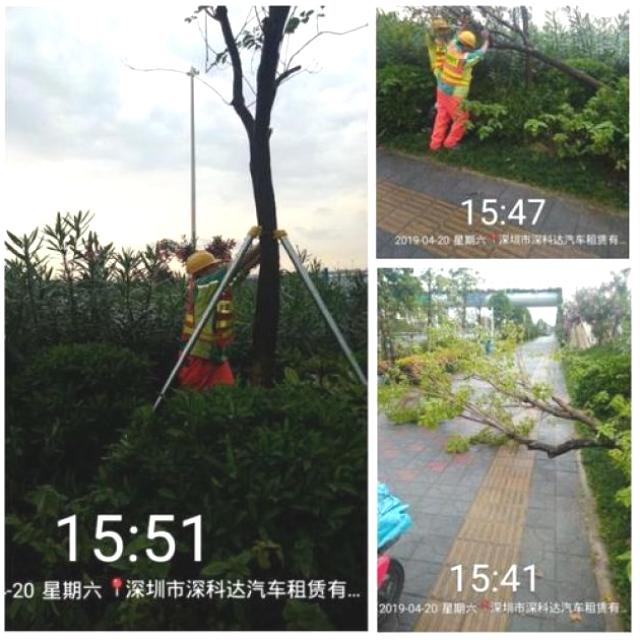fallen_object: (380, 300, 628, 467), (427, 5, 602, 96)
